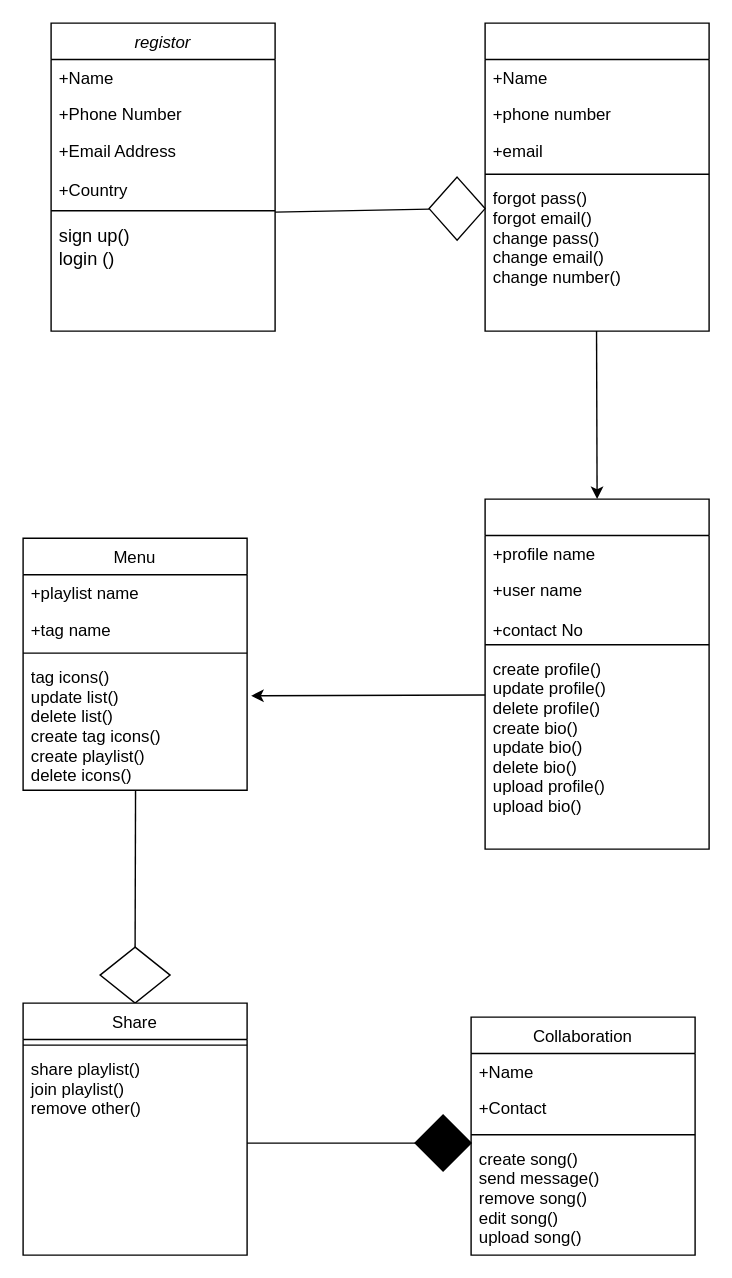
Some shapes in this 732 by 1278 pixel diagram are drawn without their labels. The box of each missing label's shape, as (x1, y1, x2, y2) in pixels:
personalized profile: (484, 498, 709, 849)
update pass: (484, 22, 709, 331)
